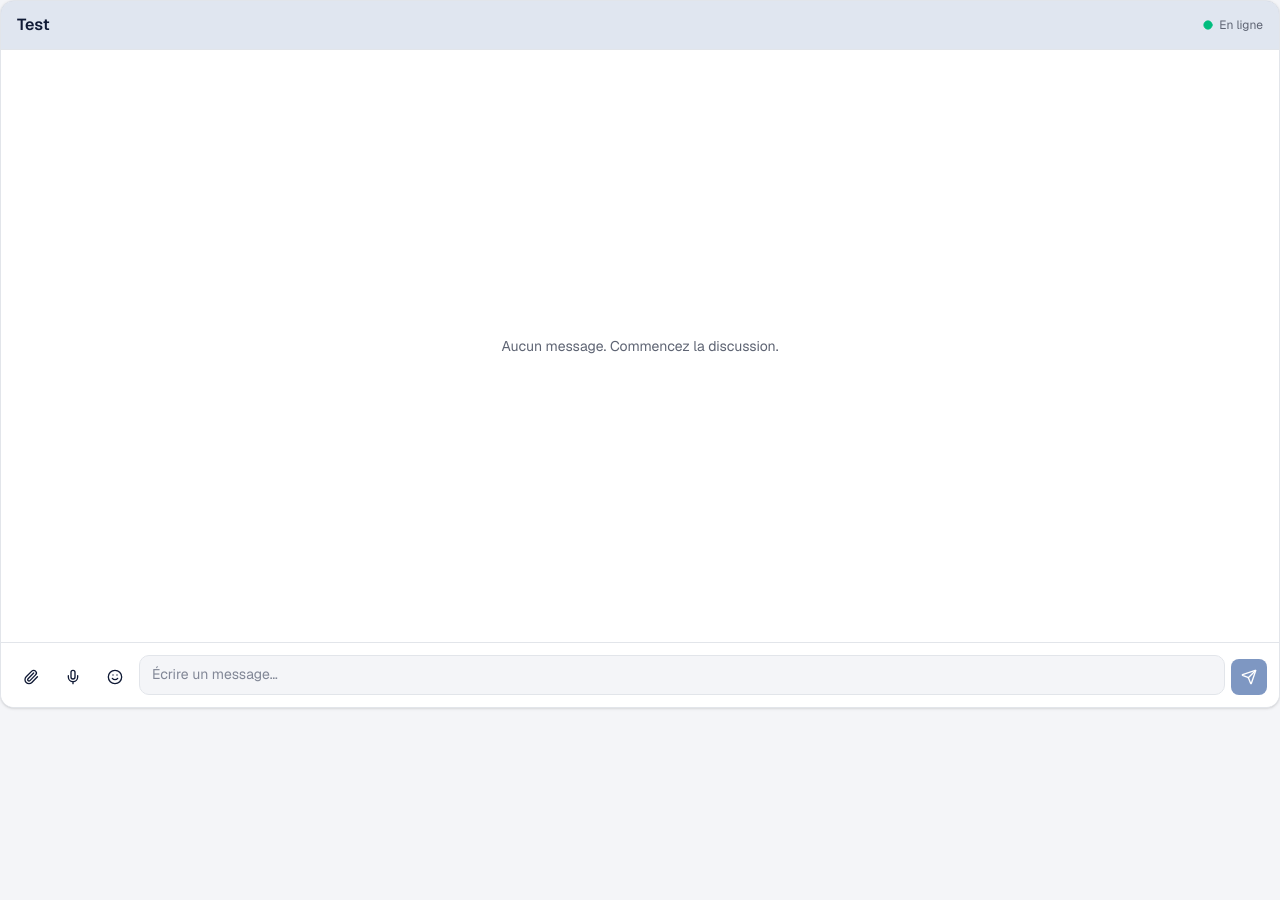
Test: ChatConversation — écho optimiste et retry hors-ligne (issue #260) › shows a retry/delete action when the ack reports a failure, and retry clears the error
Type "Message refusé" into the text box labelled "message" at (682, 675), box [139,655,1225,695]
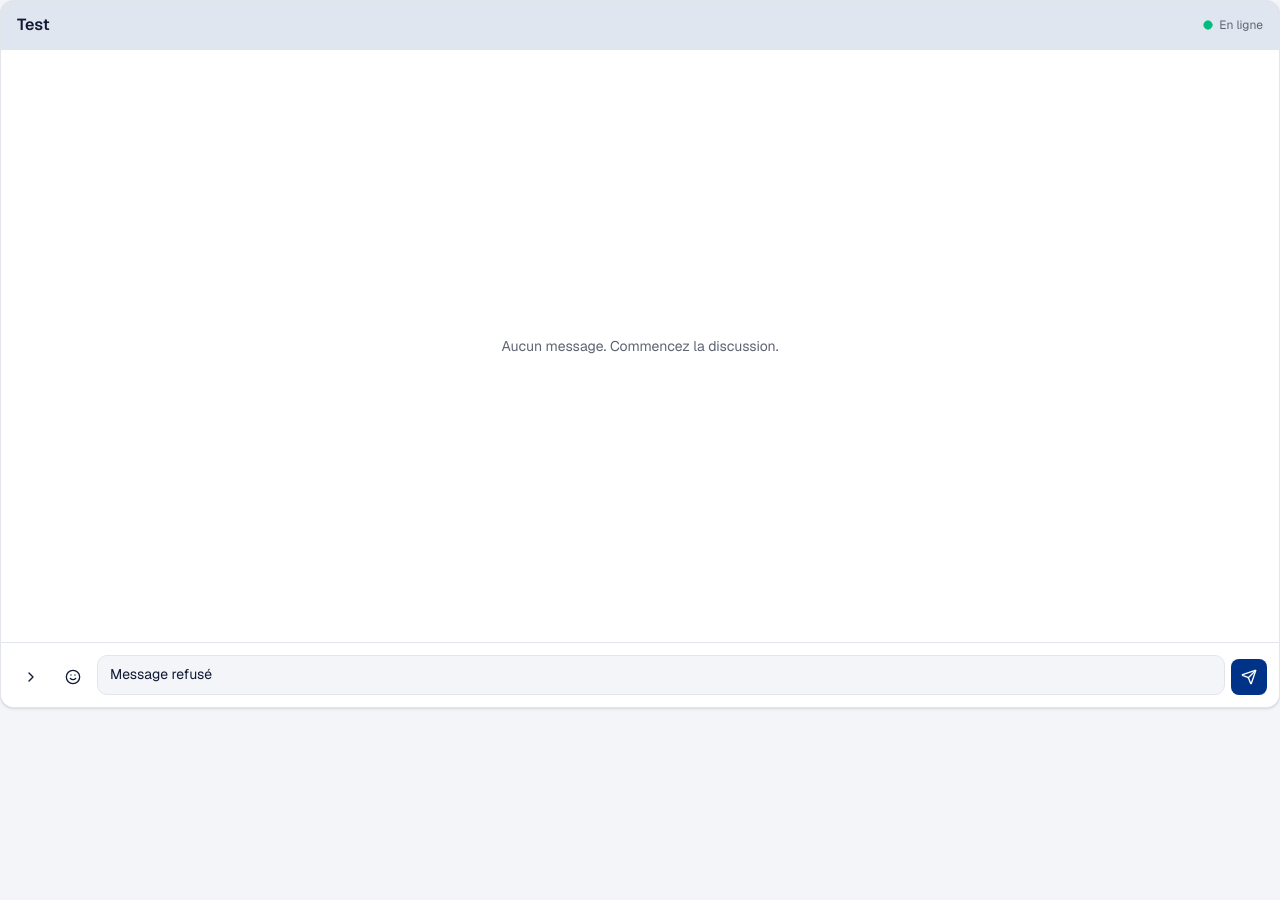
Click the button named "Envoyer" at (1249, 677), box [1231,659,1267,695]
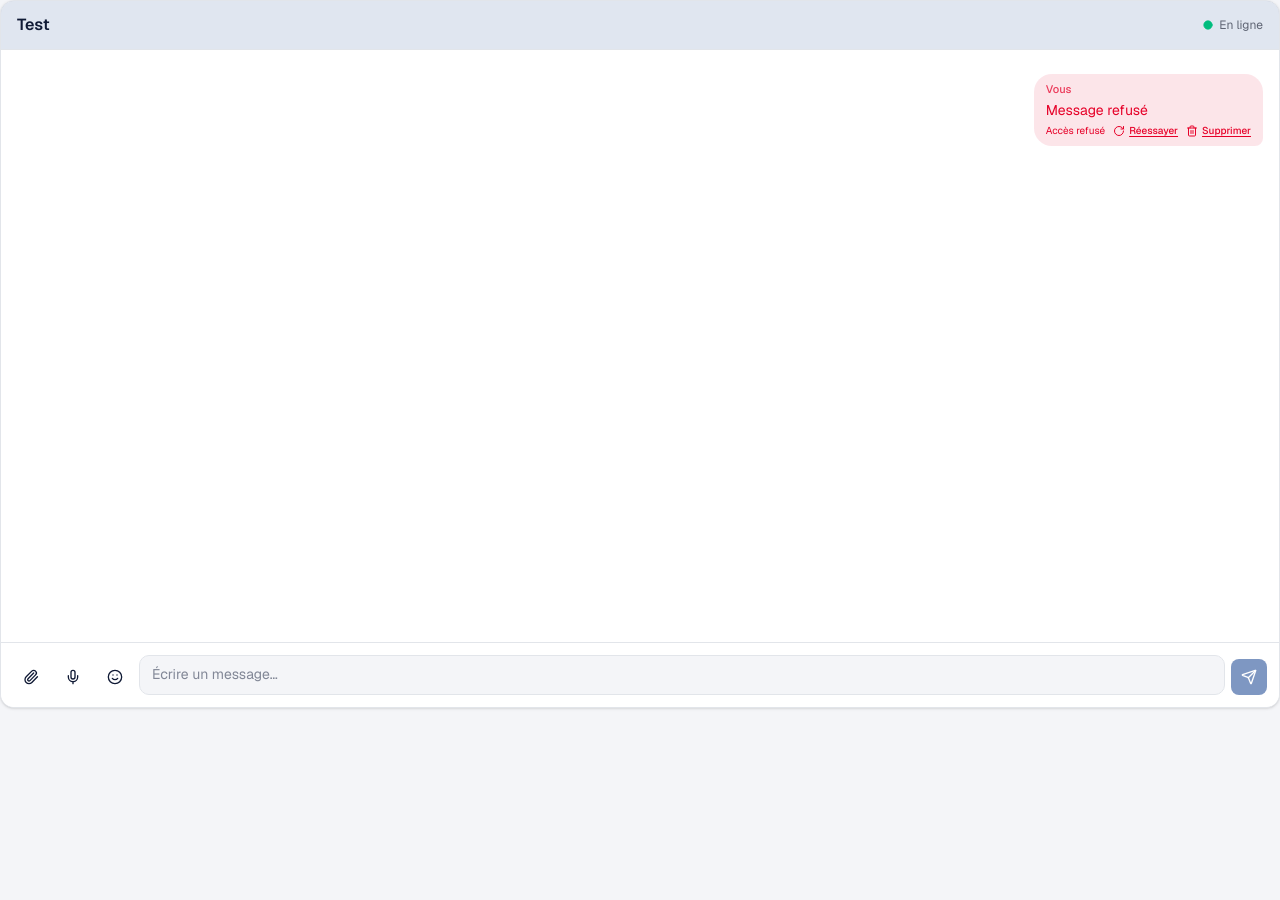
Expected: the text "Accès refusé" is shown, [1046,124,1105,138]
Expected: the button "Réessayer" is shown
Expected: the button "Supprimer" is shown, [1186,124,1251,138]
Click the button "Réessayer" at (1146, 131), box [1113,124,1178,138]
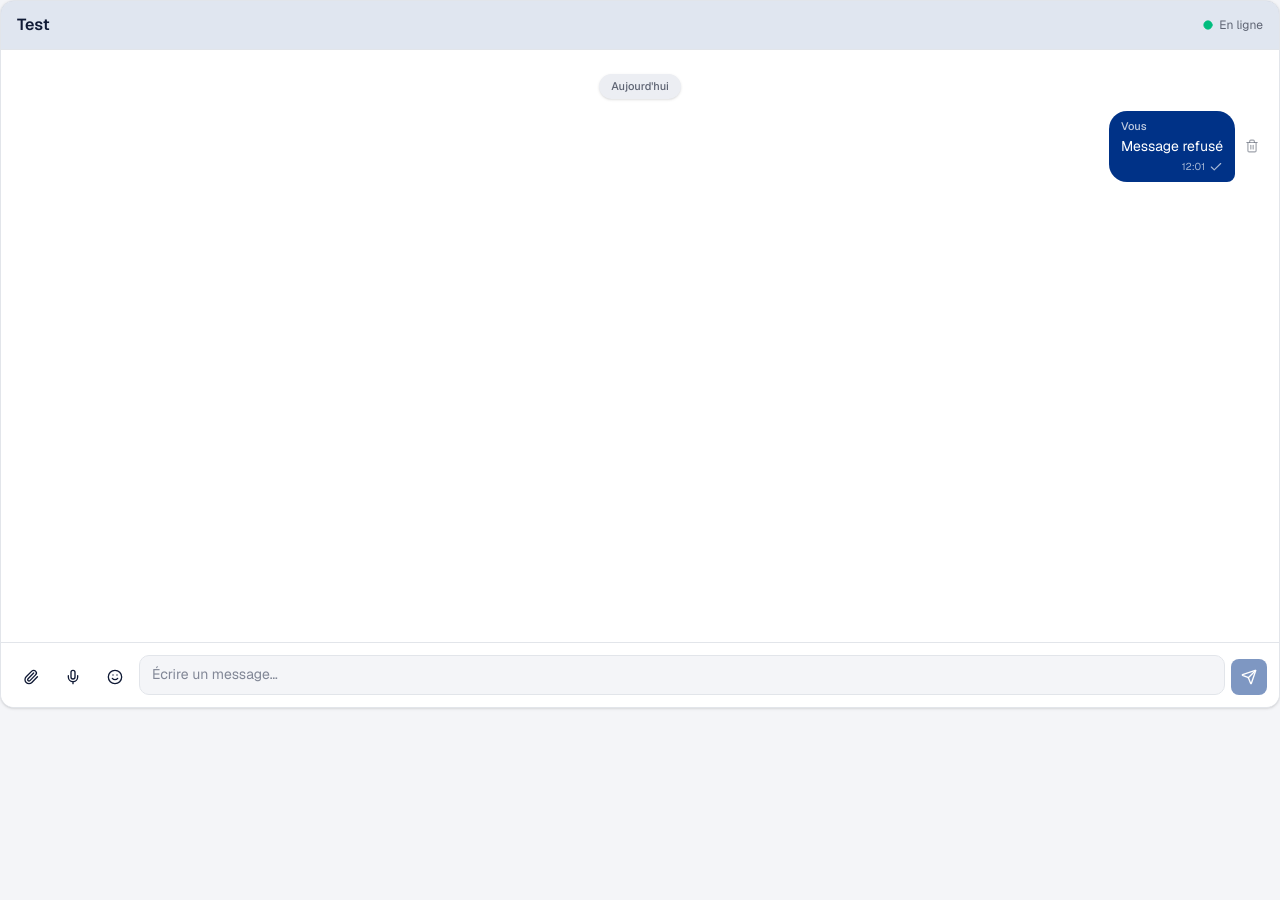
Expected: the text "Accès refusé" is gone
